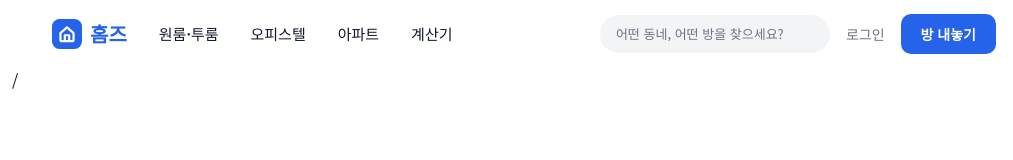
Scenario: Header search › searches for the typed keyword on submit
Type "창동역" into the search field named "매물 검색어".
click(715, 34); type("창동역")  # box [600,15,830,53]
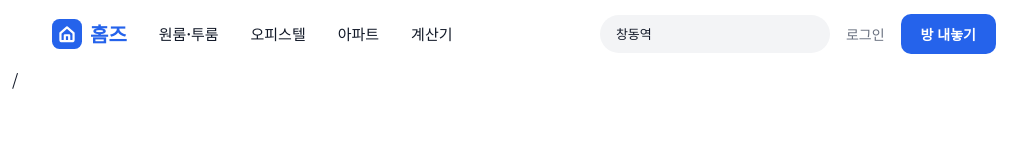
Submit the form, box [600,15,830,53]
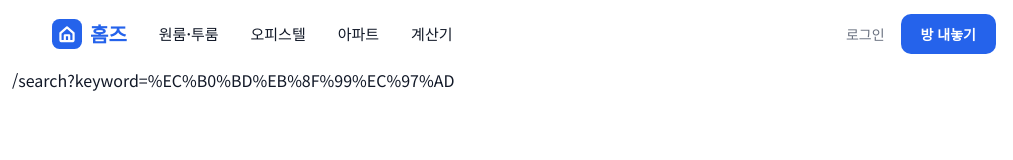
Expected: the text with test id "where" reads "/search?keyword=%EC%B0%BD%EB%8F%99%EC%97%AD", [12,68,454,92]
